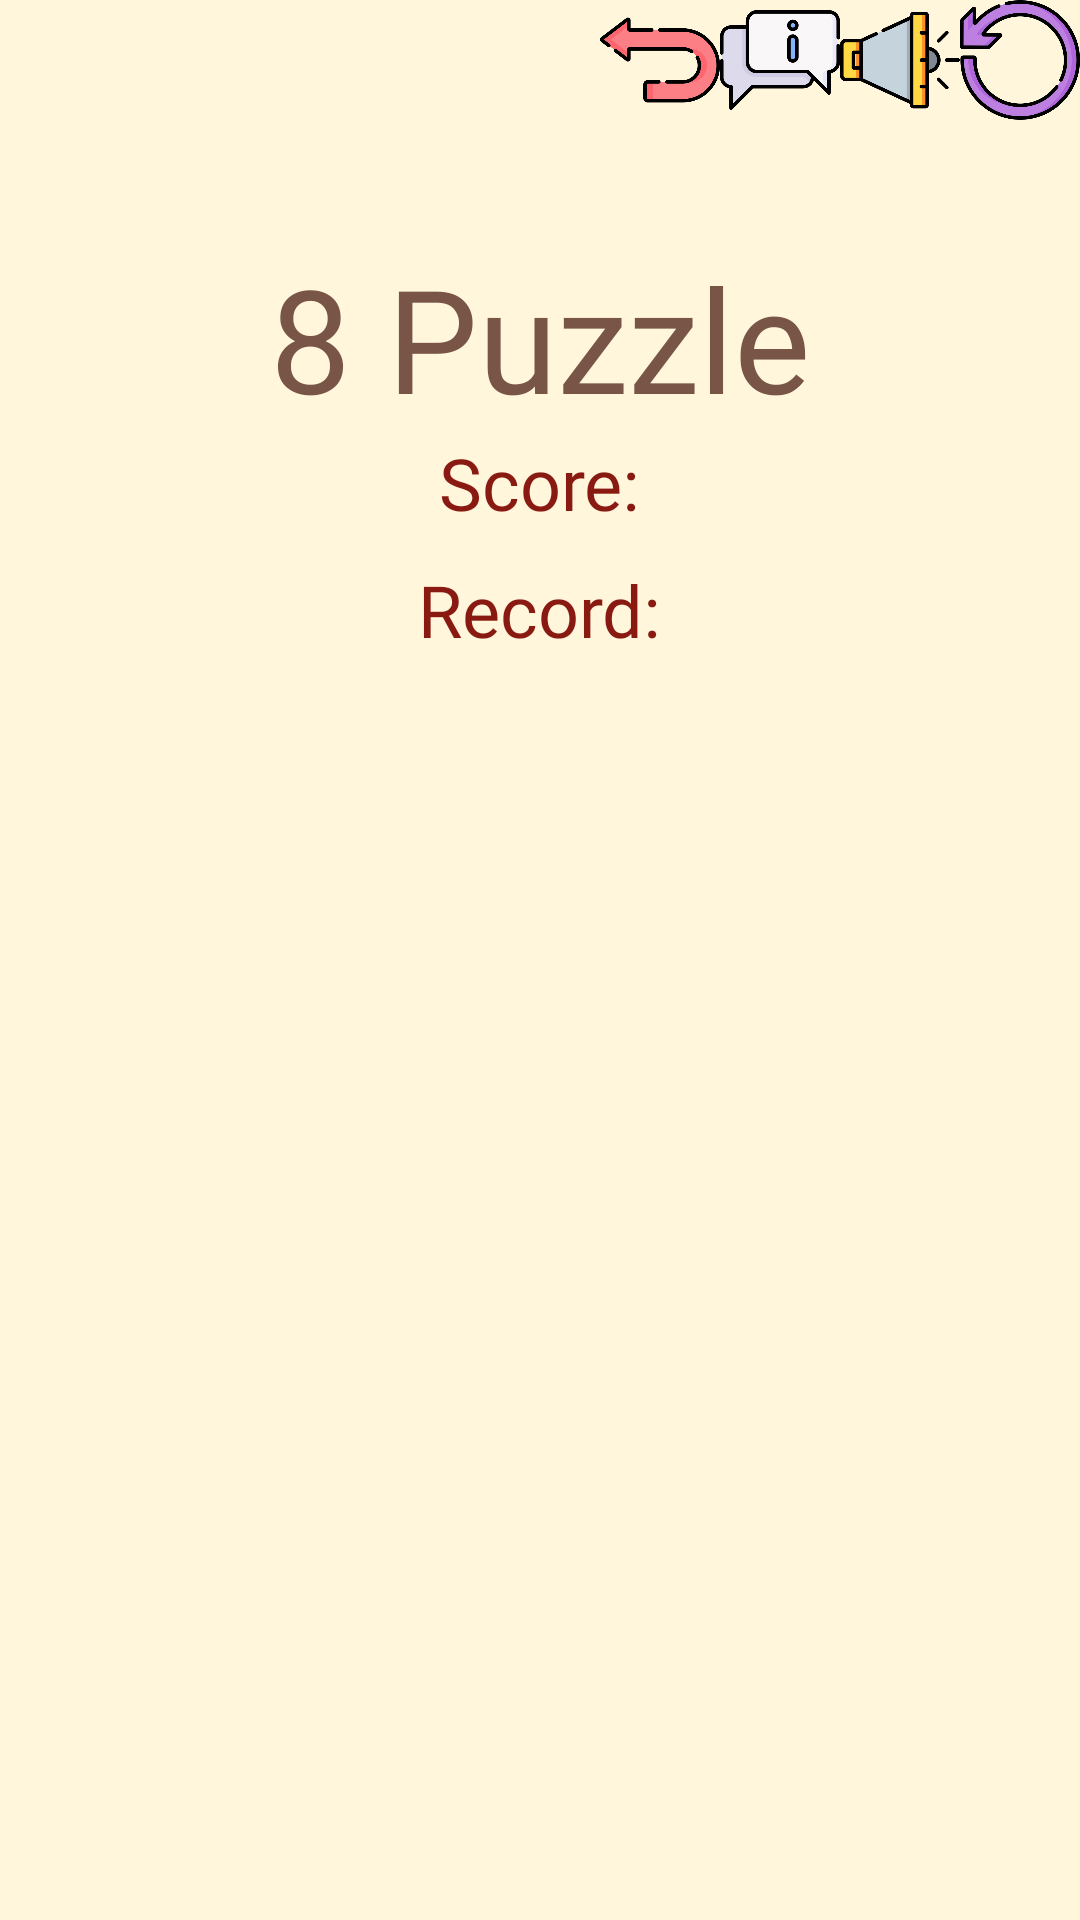

Icon click points for this 1080px×1920px phone screenshot, format [x,y]:
back: [660,60]
info: [780,60]
reload: [1020,60]
sound on: [900,60]
